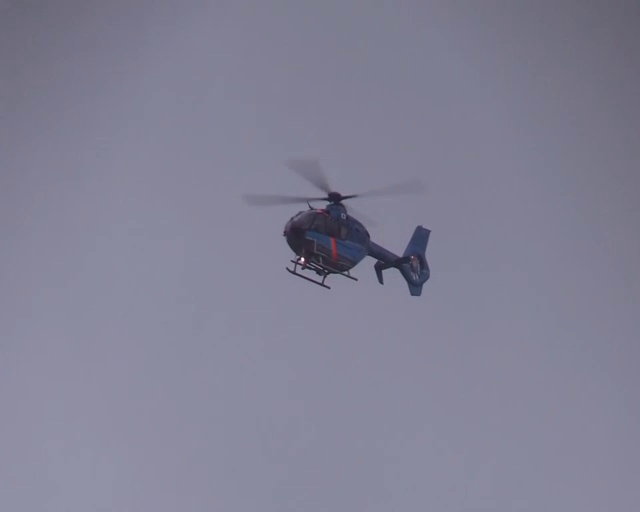HELICOPTER: (242, 158, 433, 294)
